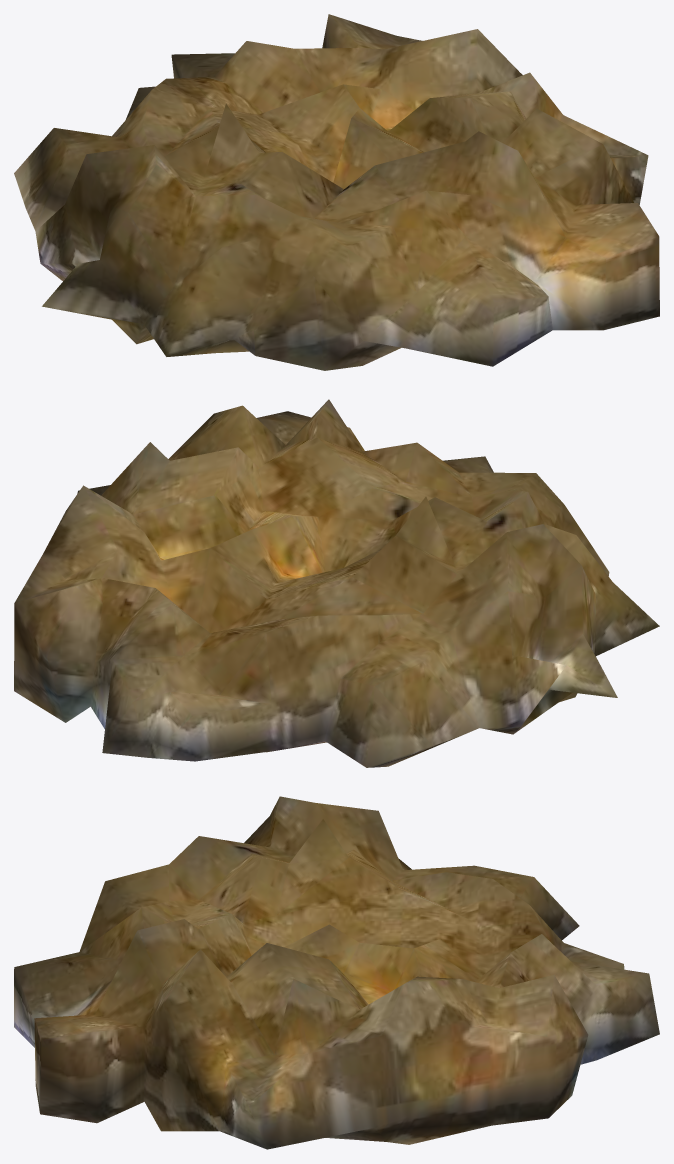
File: onion.glb
3 renders of one model, top to bottom at view 1: azimuth 30°, elevation 25°; view 2: azimuth 150°, elevation 25°; view 3: azimuth 270°, elevation 25°, orthographic. The views are drawn at different scales.
Visible parts, largest first — view 1: onion; view 2: onion; view 3: onion.
Part boxes in pixels (<box>): onion: <box>14,14,659,370</box>; onion: <box>14,399,659,767</box>; onion: <box>14,796,659,1149</box>.
Size of the model in its own units: 6.61 by 2.34 by 6.83.
1 material, 1 textured.
